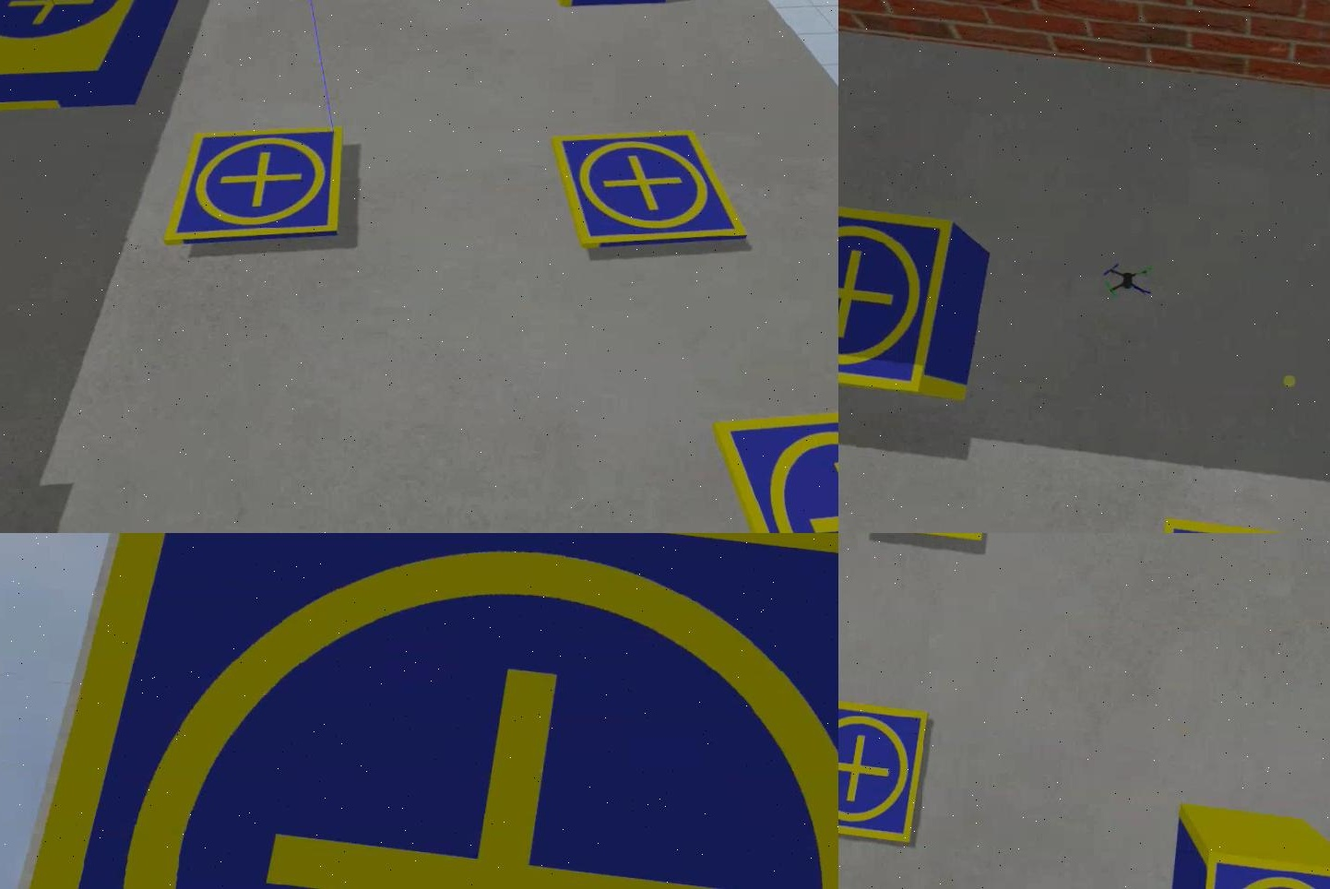large_base: (0, 1, 203, 126)
small_base: (0, 534, 837, 889), (548, 117, 752, 256), (160, 121, 346, 253), (837, 199, 951, 398), (707, 398, 837, 534), (837, 697, 928, 849), (1191, 849, 1328, 889)
